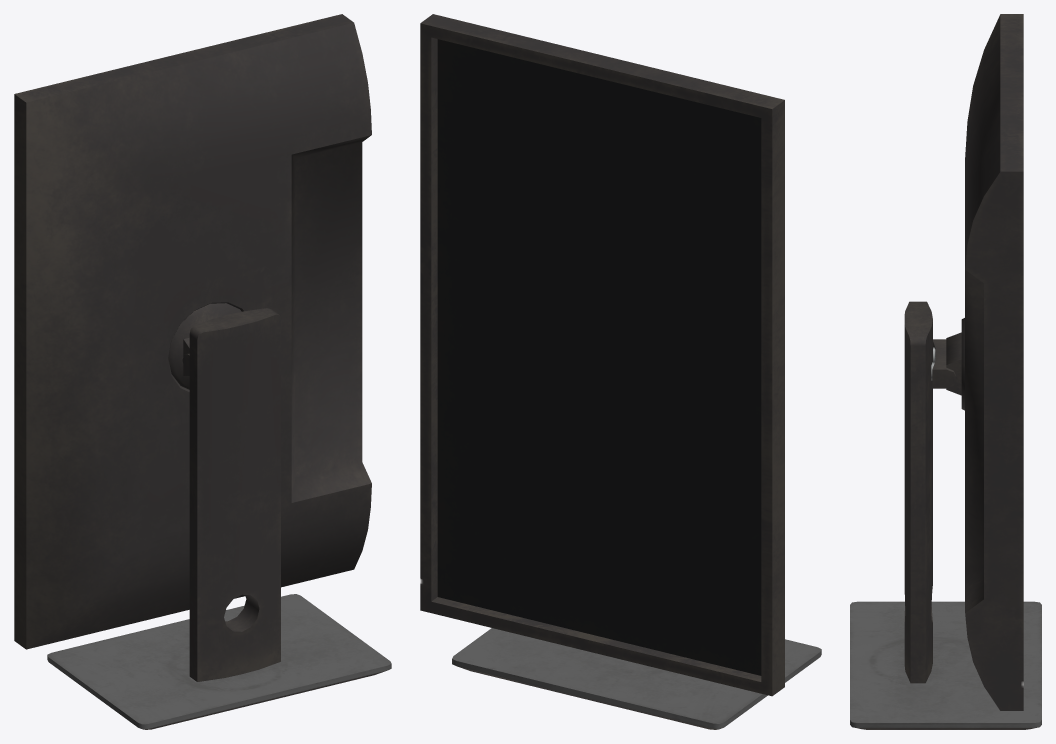
Rendered from Monitor_02.fbx.
The picture shows the model from 3 angles, left to right: view 1: azimuth 30°, elevation 25°; view 2: azimuth 150°, elevation 25°; view 3: azimuth 270°, elevation 25°; orthographic projection. The views are drawn at different scales.
Parts seen in each view (by area): view 1: Monitor_02_LOD00; view 2: Monitor_02_LOD00; view 3: Monitor_02_LOD00.
Boxes of the visible parts, left/top/right/bottom form: Monitor_02_LOD00: left=14, top=14, right=391, bottom=729; Monitor_02_LOD00: left=420, top=14, right=821, bottom=729; Monitor_02_LOD00: left=850, top=14, right=1041, bottom=729.
Size of what is drawn, in the model's own units: 50 by 85.64 by 25.67.
